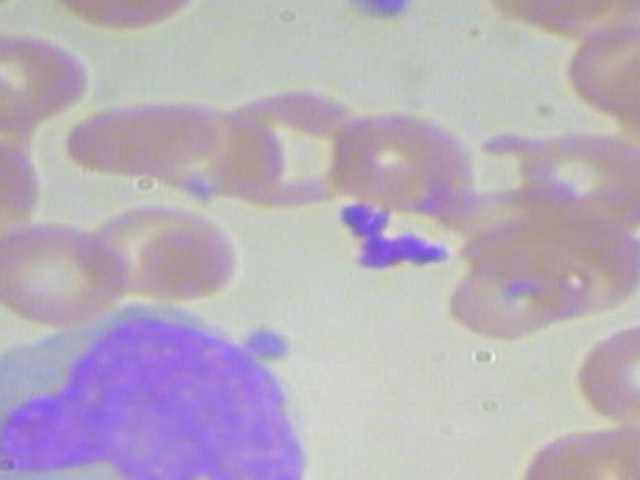Platelets: (347, 230, 404, 276), (238, 319, 303, 358), (327, 201, 393, 237), (396, 229, 454, 269)
RBC: (311, 105, 494, 213), (87, 199, 243, 300), (0, 219, 128, 321), (515, 414, 640, 480), (575, 321, 640, 431)
WBC: (0, 298, 324, 480)
